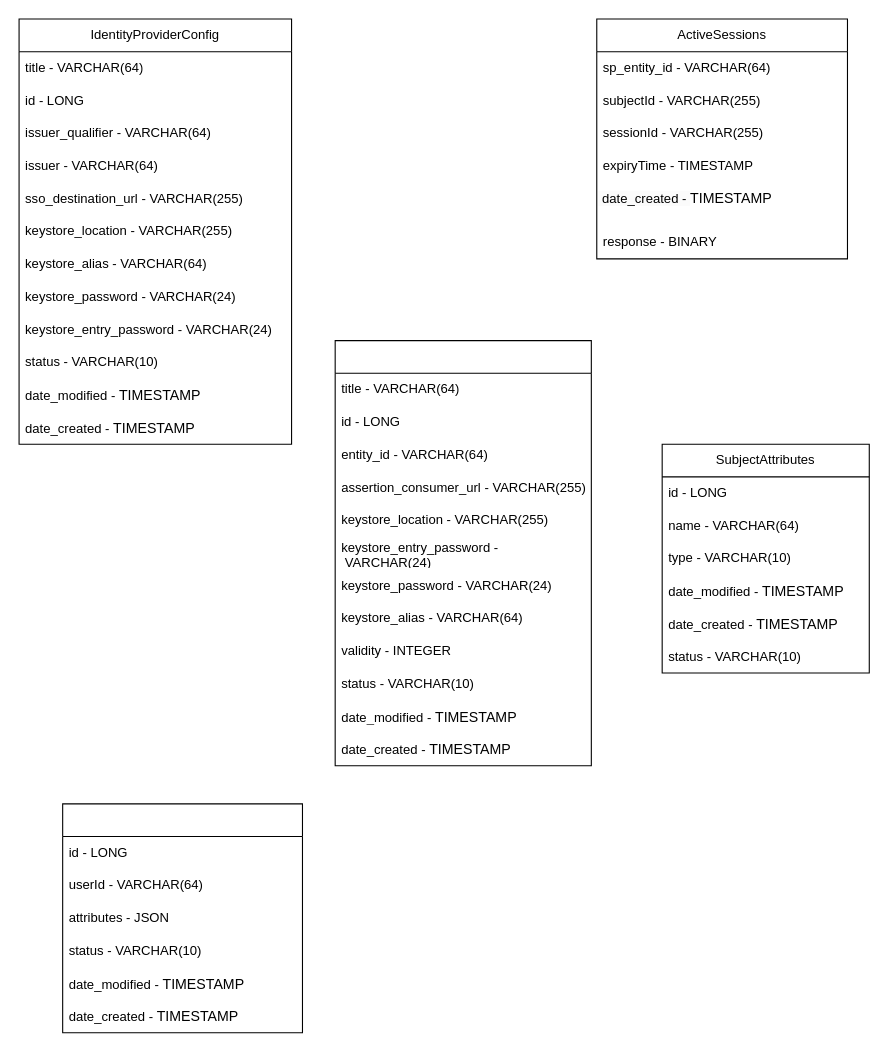
Some shapes in this 888 by 1052 pixel diagram are drawn without their labels. The box of each missing label's shape, as (x1, y1, x2, y2) in pixels:
ServiceProviderConfig: (334, 340, 591, 766)
Subject: (62, 803, 302, 1033)
